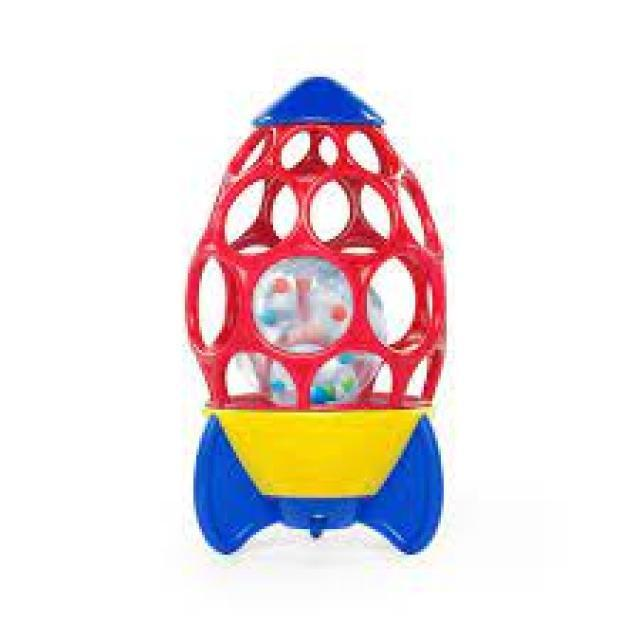hard-toy: (187, 79, 446, 555)
